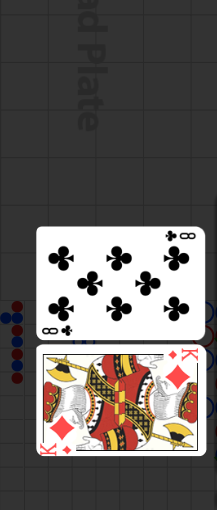8C: (163, 230, 197, 244)
KD: (38, 444, 73, 457)
